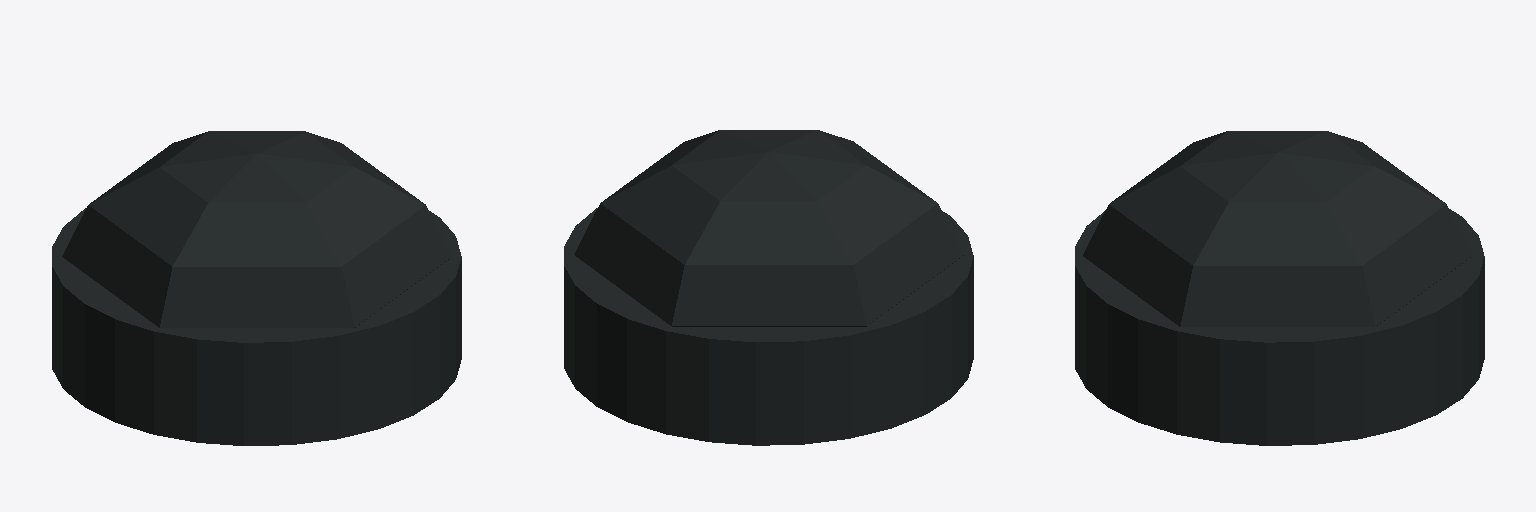
File: КреплениеЦепиЗаДно.obj
3 views of the same model, side by side, from view 1: azimuth 30°, elevation 25°; view 2: azimuth 150°, elevation 25°; view 3: azimuth 270°, elevation 25° (orthographic).
Parts seen in each view (by area): view 1: Сфера_Сфера.011; view 2: Сфера_Сфера.011; view 3: Сфера_Сфера.011.
Part boxes in pixels (x1,y1,x2,y2): Сфера_Сфера.011: (52,131,461,445); Сфера_Сфера.011: (564,130,973,445); Сфера_Сфера.011: (1075,131,1484,445).
Bounding box in the file's own units: 0.1715 × 0.0955 × 0.1712.